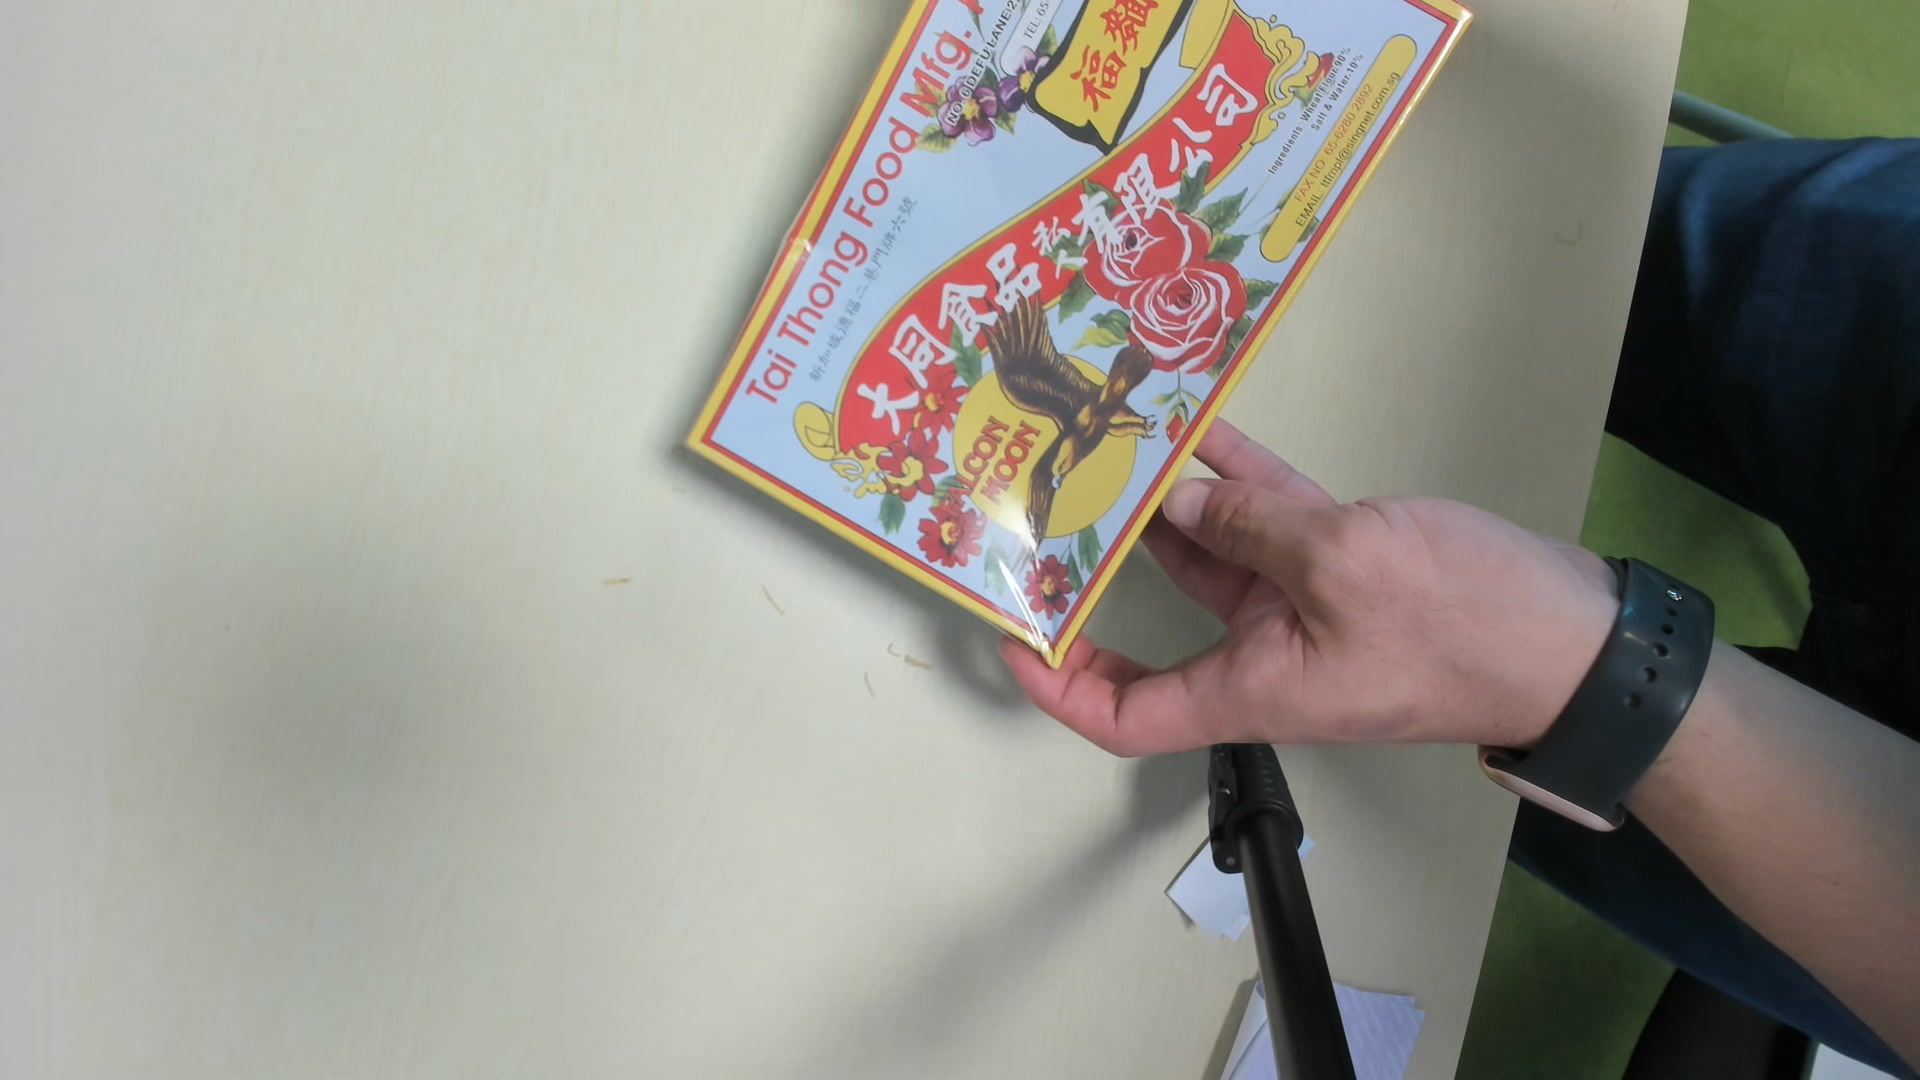BeeHoonVermicelli_0-99g_NonHalal_NonHealthy: (688, 7, 1472, 655)
